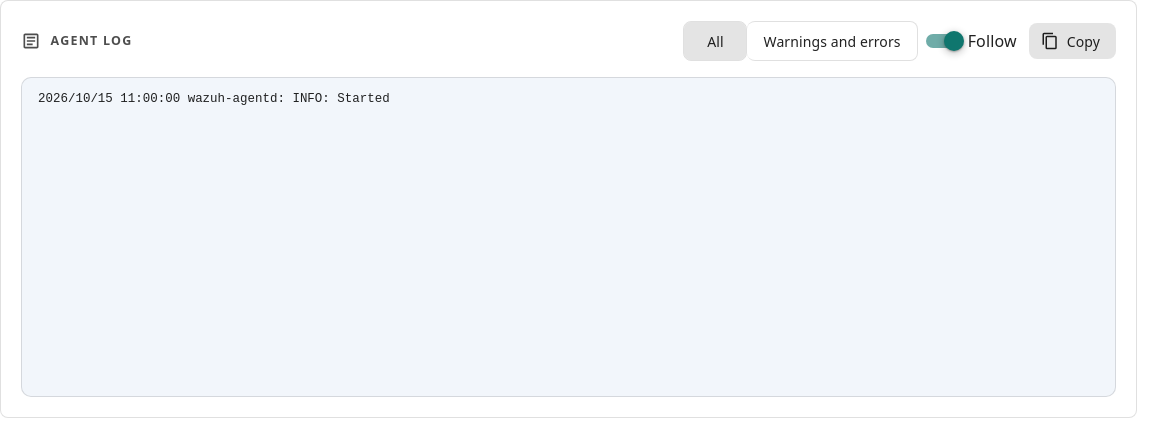
Test: LogPanel › says so when the filter hides everything
What coordinates should you click on to do the following:
click the button with test id "filter-issues"
I would click on:
 (833, 41)
Its box is [748,21,918,61].
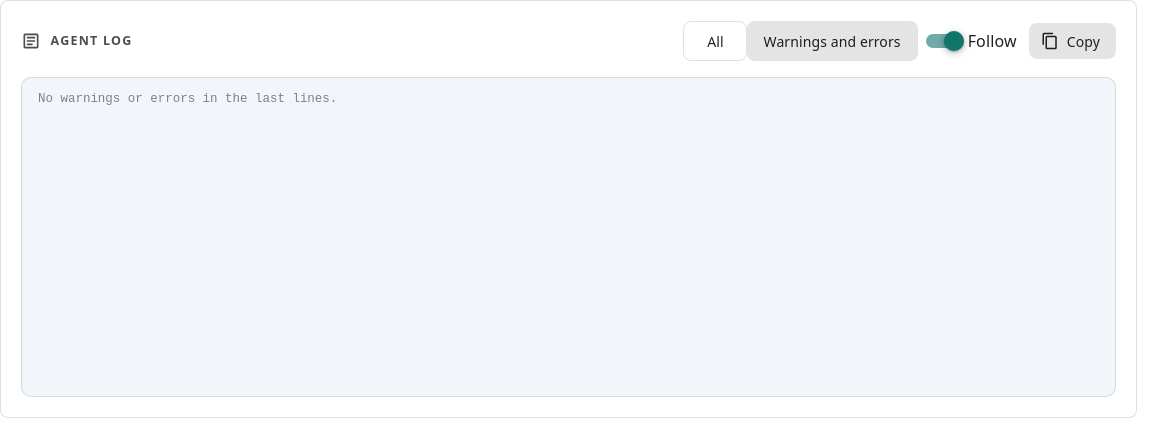
Expected: the text with test id "empty" shows "No warnings or errors", [38,92,337,106]
